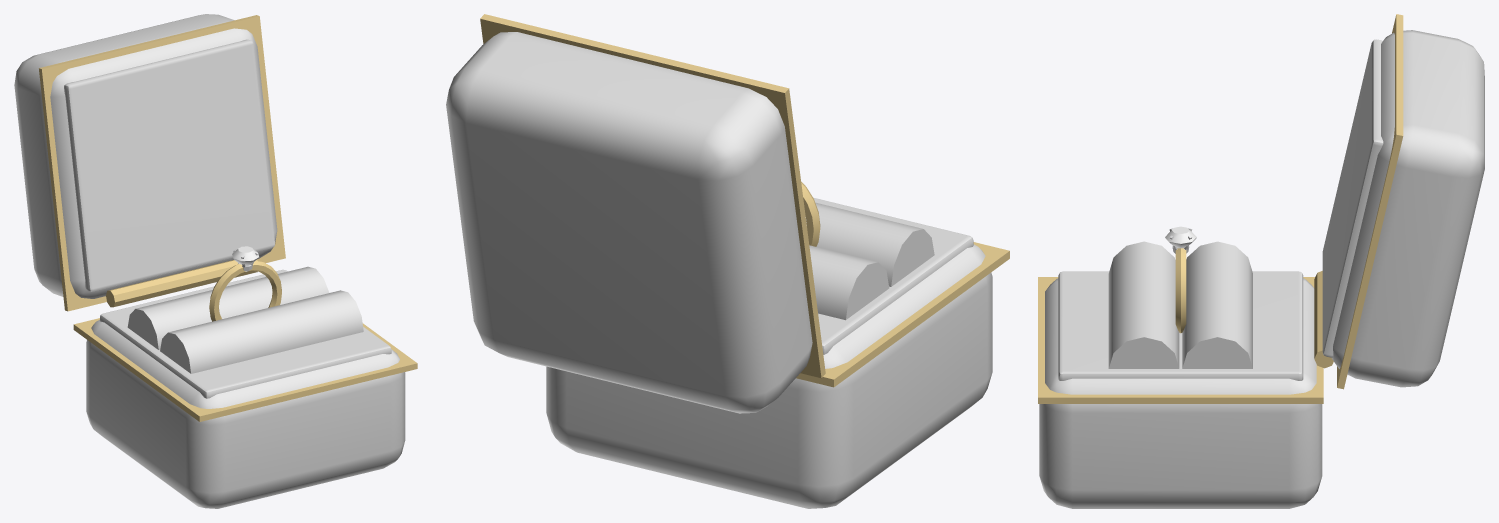
The model's file is SM_Loot_Ring.fbx.
The picture shows the model from 3 angles, left to right: view 1: azimuth 30°, elevation 25°; view 2: azimuth 150°, elevation 25°; view 3: azimuth 270°, elevation 25°; orthographic projection. The views are drawn at different scales.
Parts seen in each view (by area): view 1: SM_Loot_Ring_1; view 2: SM_Loot_Ring_1; view 3: SM_Loot_Ring_1.
Part boxes in pixels (x1,y1,x2,y2): SM_Loot_Ring_1: (14,14,417,508); SM_Loot_Ring_1: (446,14,1009,508); SM_Loot_Ring_1: (1038,14,1484,508).
Bounding box in the file's own units: 6.06 × 9.03 × 9.48.
